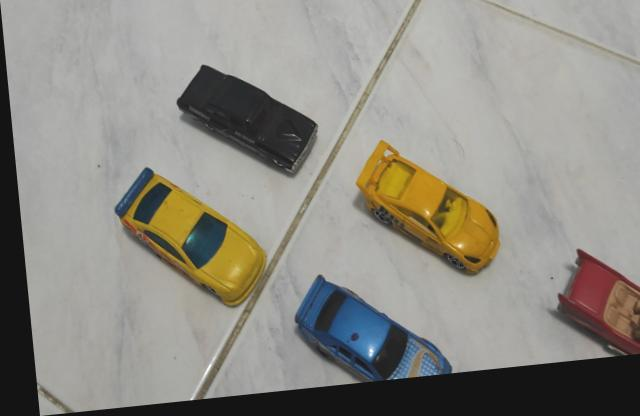01_FORD: (172, 70, 315, 185)
02_OZSOME: (108, 171, 263, 313)
03_V8: (548, 262, 640, 368)
04_MERZEDES: (288, 283, 445, 389)
07_RHLTURBO: (350, 149, 496, 287)
